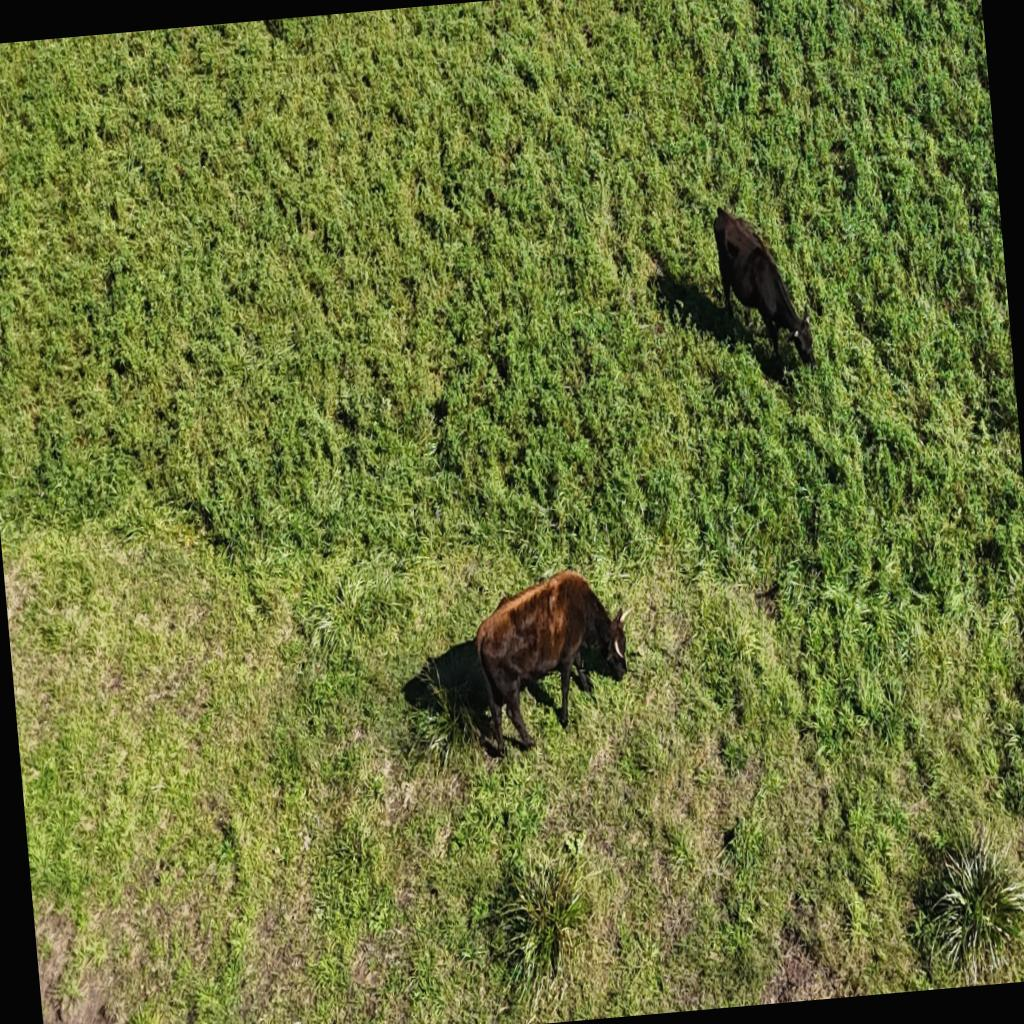cow: (465, 564, 636, 756), (707, 194, 819, 380)
